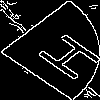H: (25, 25, 100, 83)
